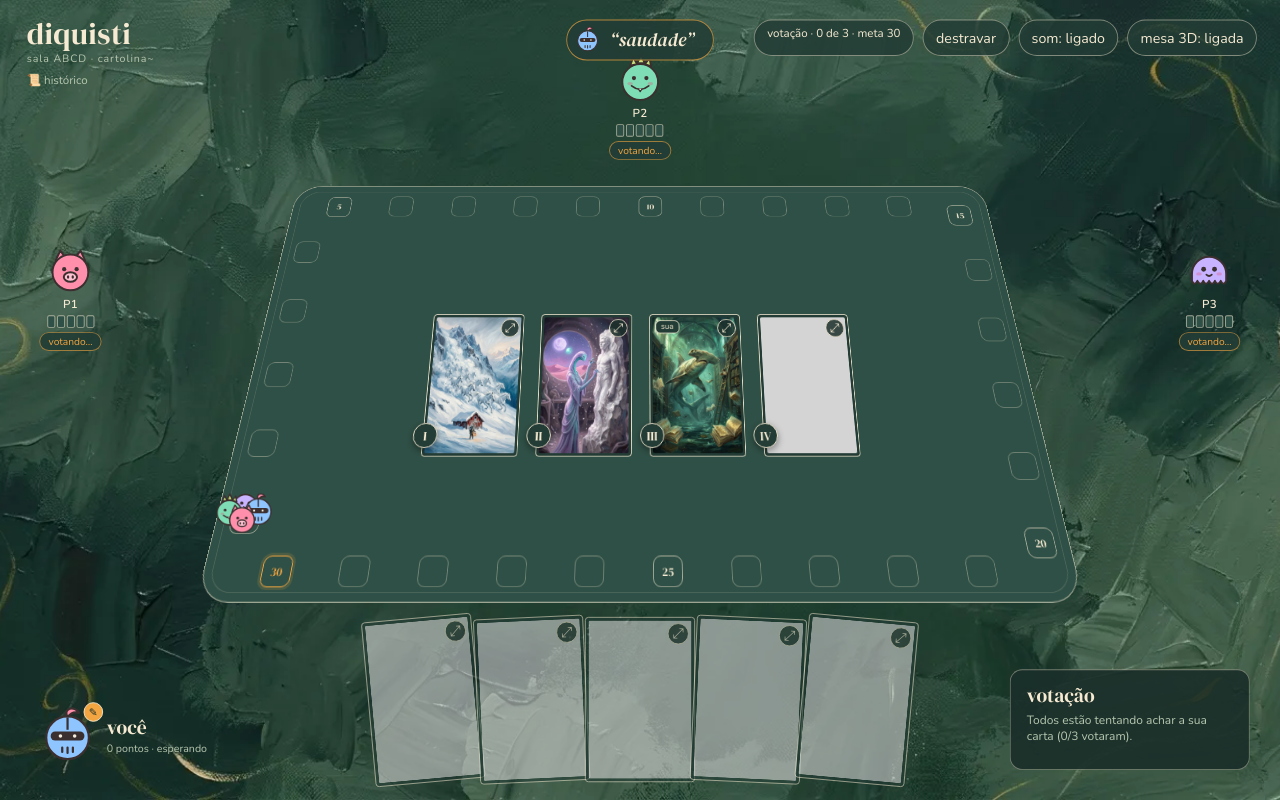
it: mesa do Diquisti: votar e revelar › quem narra não vota
This screenshot has width=1280, height=800.
Click the button with aria-label "carta II". click: x=584, y=386
box: [535,314,632,457]
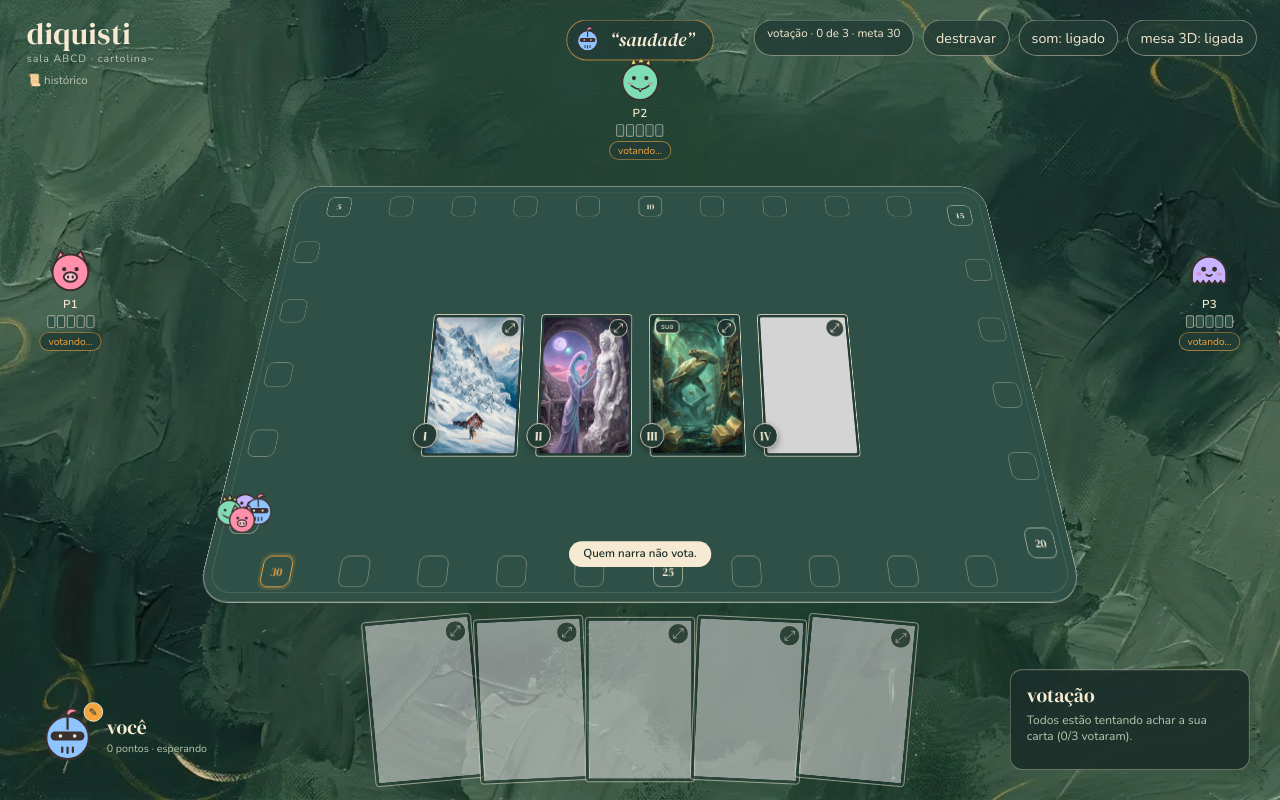
Check: the text "Quem narra não vota." is shown, box [569,541,711,567]
